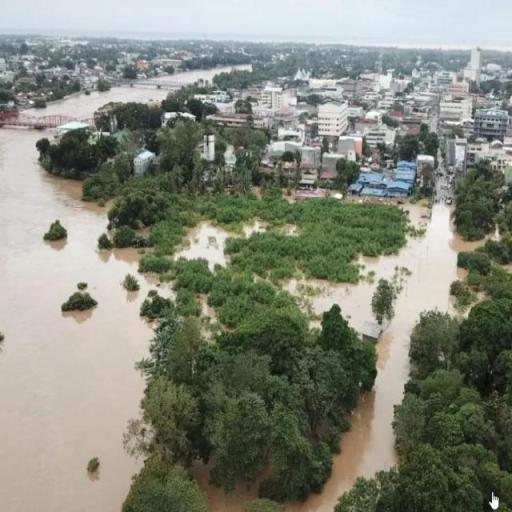flood: (0, 127, 173, 512), (282, 202, 487, 512), (26, 84, 173, 119), (175, 221, 237, 265), (156, 67, 231, 82), (238, 219, 267, 236), (282, 226, 296, 232)
house: (471, 106, 511, 141), (315, 103, 351, 139), (338, 136, 364, 161), (133, 150, 149, 176), (270, 90, 288, 110), (366, 129, 385, 147), (440, 102, 462, 116)
